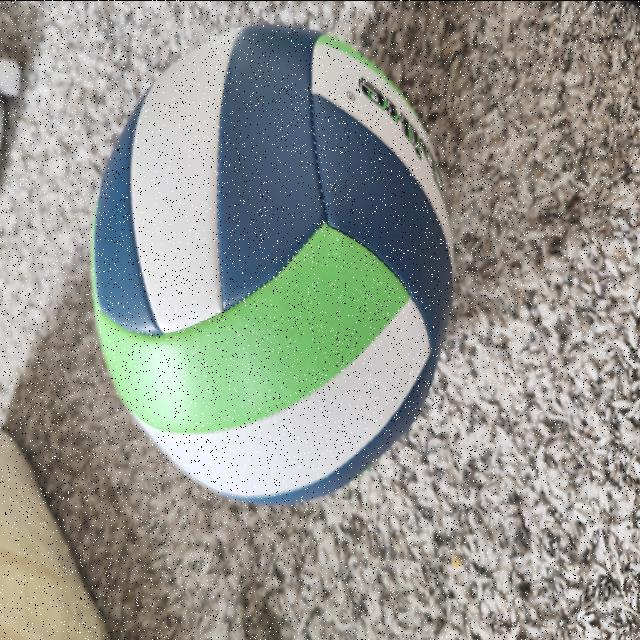ball: (93, 29, 457, 487)
